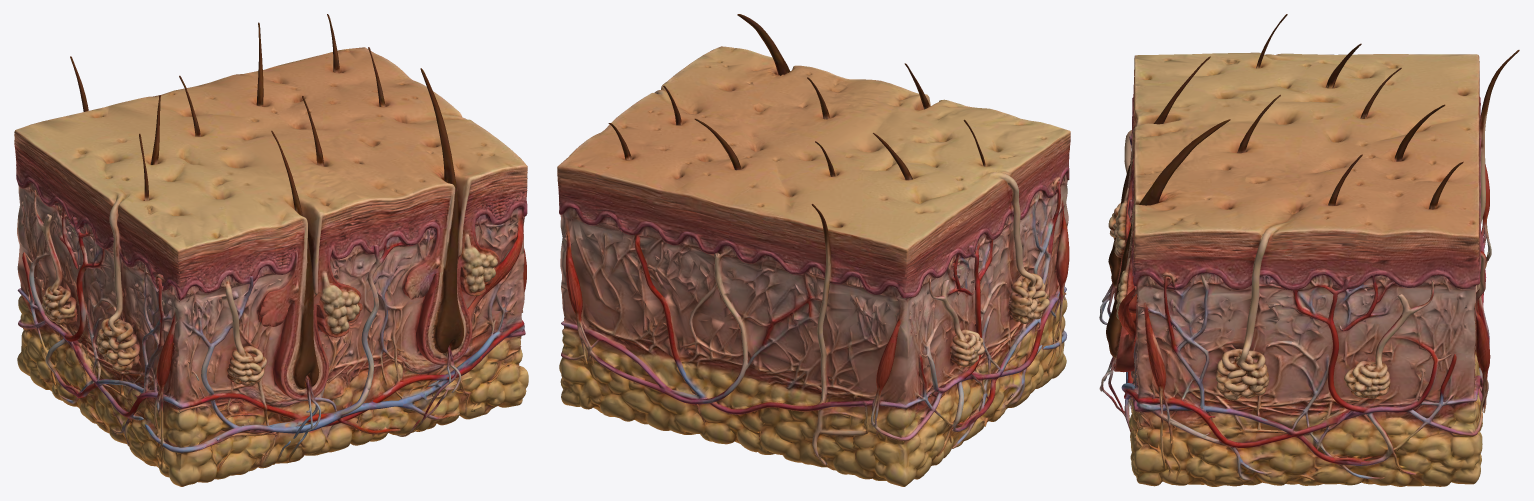
Rendered from skin.glb.
3 renders of one model, left to right at view 1: azimuth 30°, elevation 25°; view 2: azimuth 150°, elevation 25°; view 3: azimuth 270°, elevation 25°, orthographic. The views are drawn at different scales.
Visible parts, largest first — view 1: tripo_node_e5876caf-7f3d-4121-9468-4d7c567ae73f; view 2: tripo_node_e5876caf-7f3d-4121-9468-4d7c567ae73f; view 3: tripo_node_e5876caf-7f3d-4121-9468-4d7c567ae73f.
Boxes of the visible parts, x1,y1,x2,y2 form: tripo_node_e5876caf-7f3d-4121-9468-4d7c567ae73f: (14, 14, 528, 486); tripo_node_e5876caf-7f3d-4121-9468-4d7c567ae73f: (557, 14, 1070, 486); tripo_node_e5876caf-7f3d-4121-9468-4d7c567ae73f: (1099, 14, 1519, 486).
Bounding box in the file's own units: 0.98 × 0.7734 × 0.8529.
Materials: 1 (1 with a texture image).
